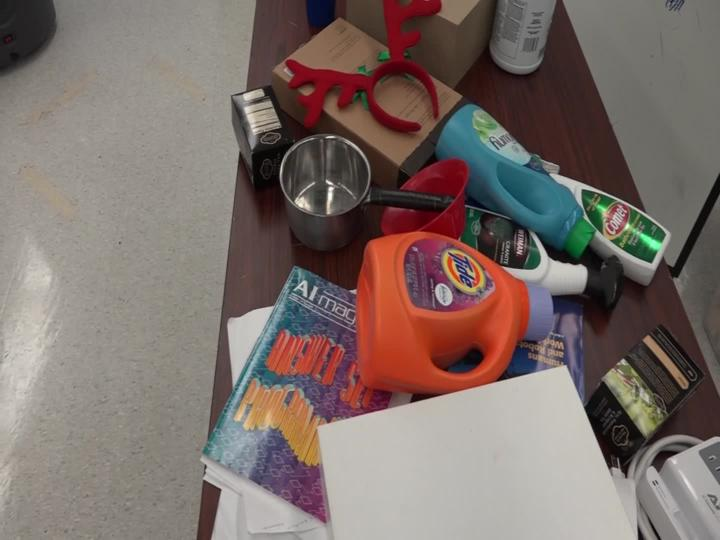downy: (418, 86, 607, 273)
